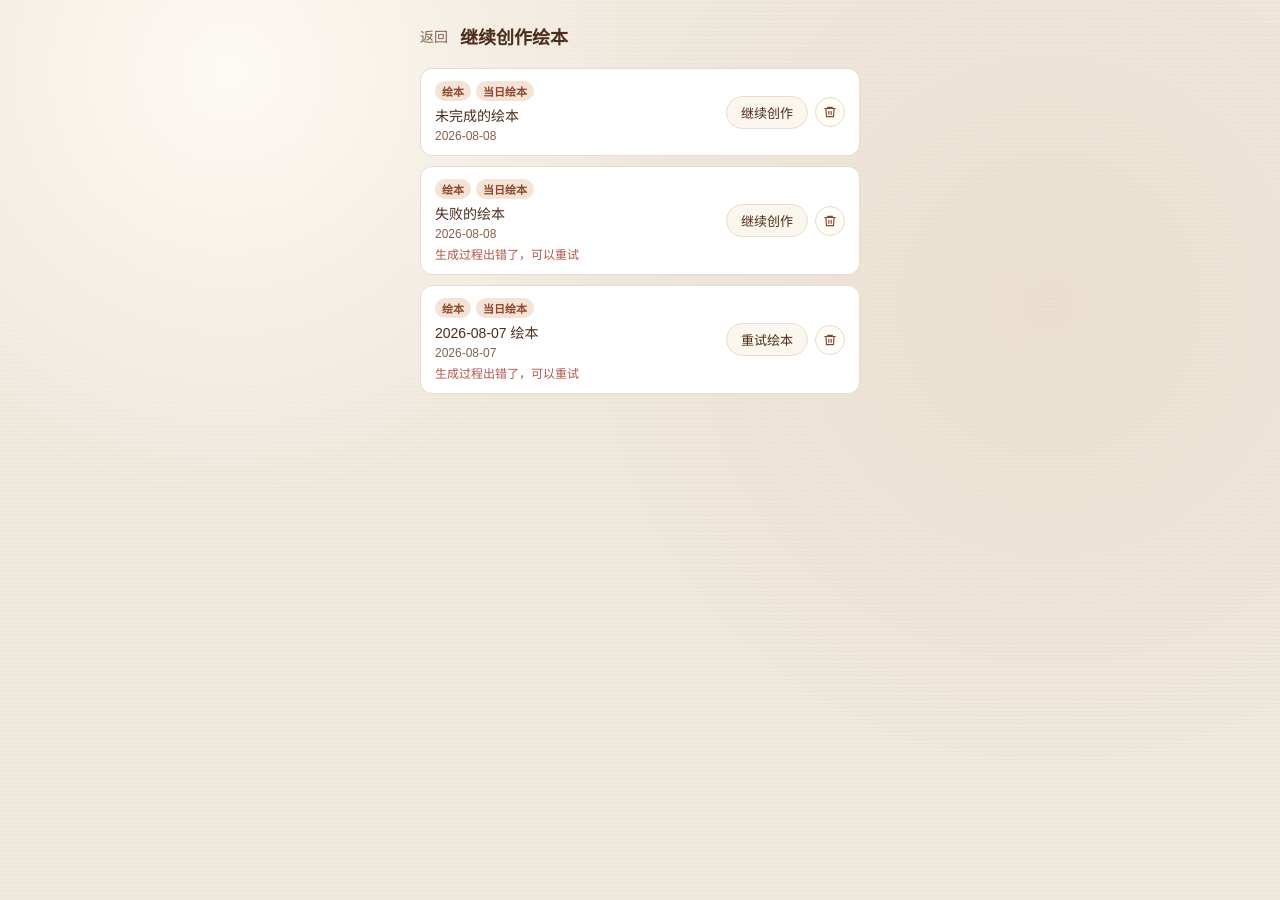
UnfinishedWorks › deletes an unfinished picturebook only after confirmation
The width and height of the screenshot is (1280, 900).
Step 1. Click the button named "删除《未完成的绘本》" → (830, 112), box [815,97,845,127]
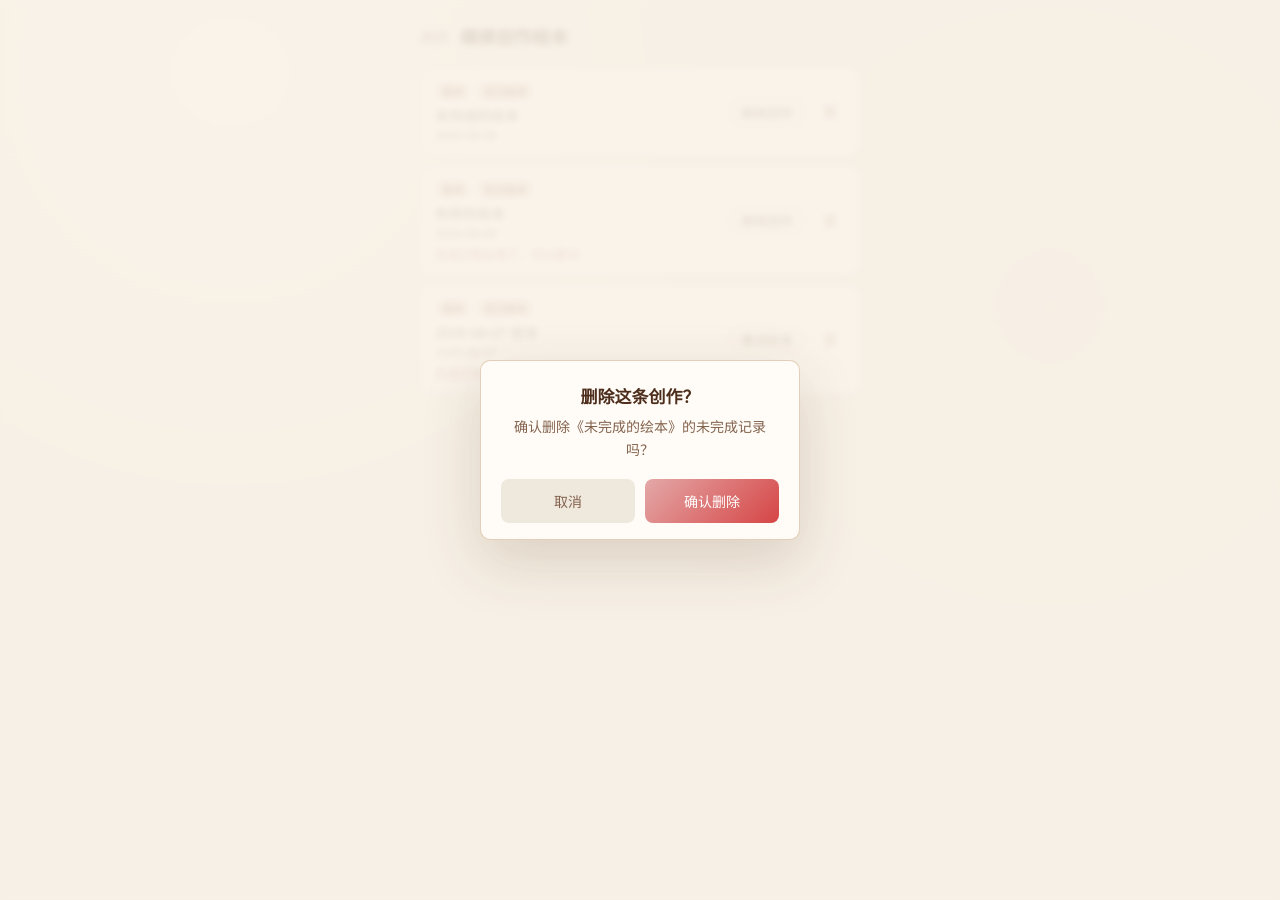
Now the dialog "删除这条创作？" is shown, box [480,360,800,540]
Step 2. Click the button "确认删除" → (712, 501), box [645,479,779,523]
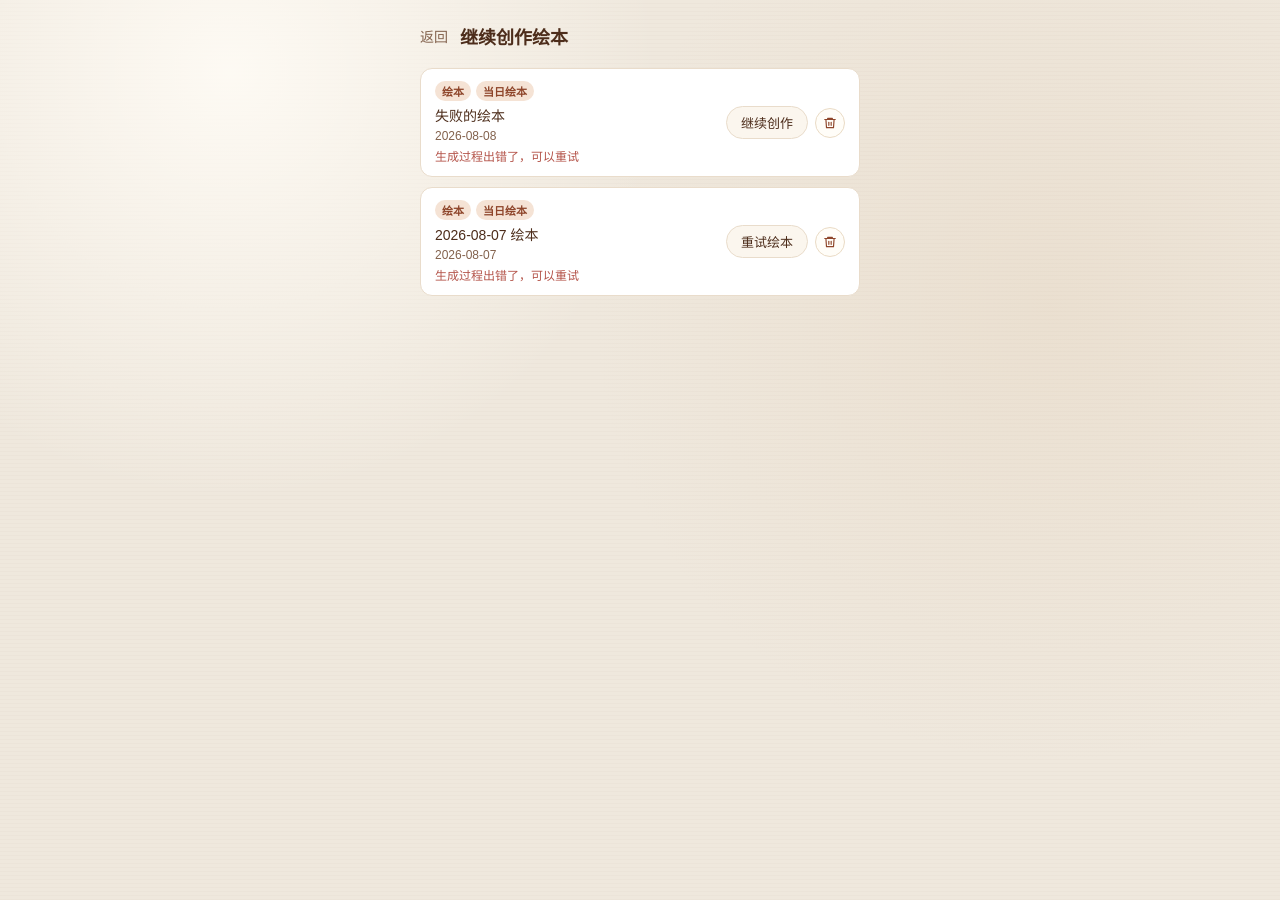
Now the text "未完成的绘本" is gone
